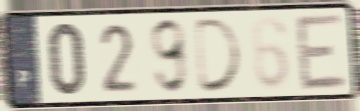0: (46, 20, 87, 98)
2: (98, 21, 141, 96)
6: (249, 13, 292, 93)
9: (147, 16, 191, 97)
D: (193, 15, 246, 96)
E: (293, 11, 350, 94)
